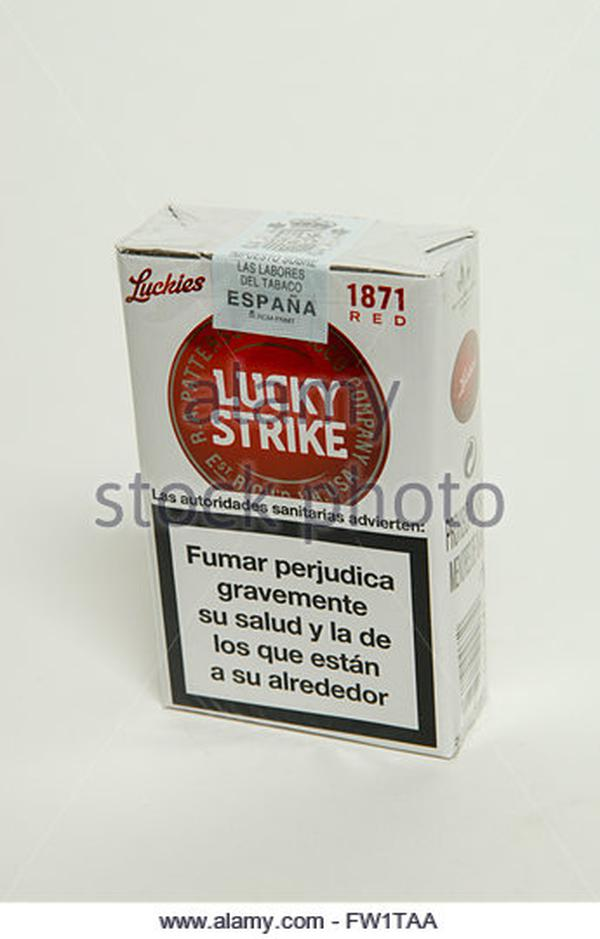lucky_strike_red: (161, 257, 443, 702)
